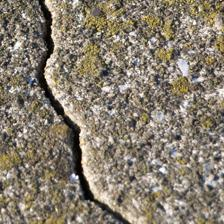Crack: (18, 2, 115, 220)
